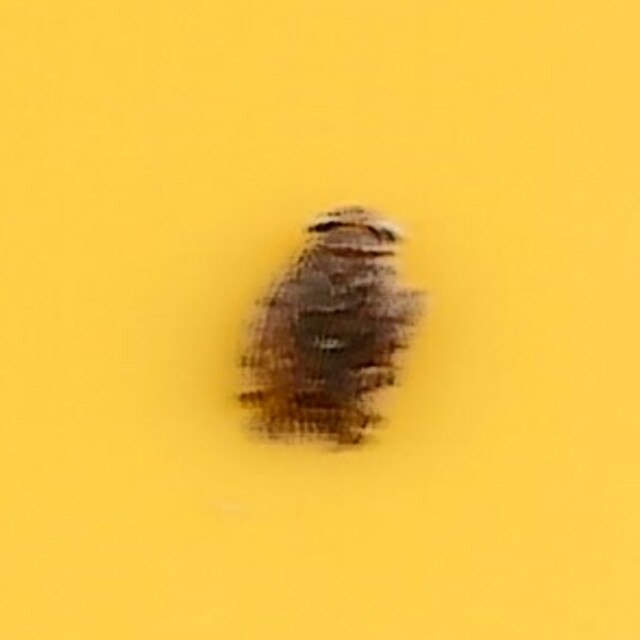Hemiptera: (218, 186, 422, 454)
